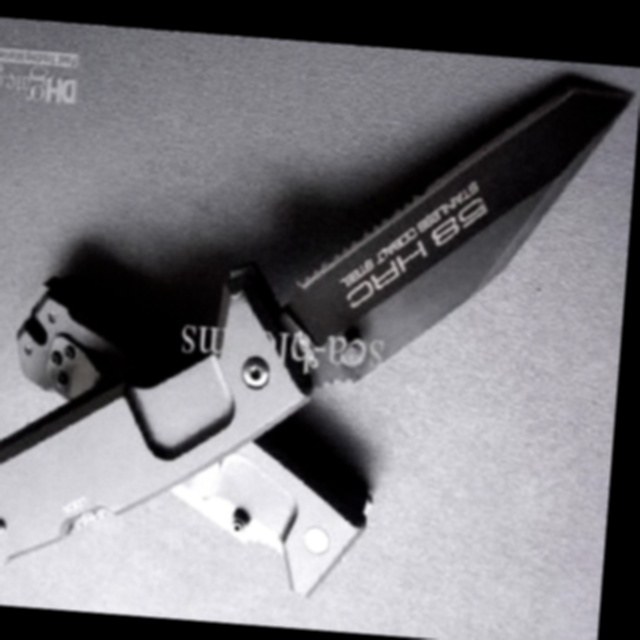Sharp-Object: (0, 38, 628, 615), (0, 275, 382, 600)
